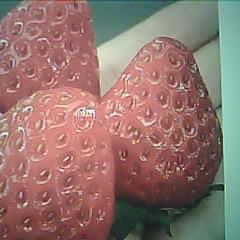straw-ripe: (101, 38, 222, 207), (0, 87, 115, 240)
